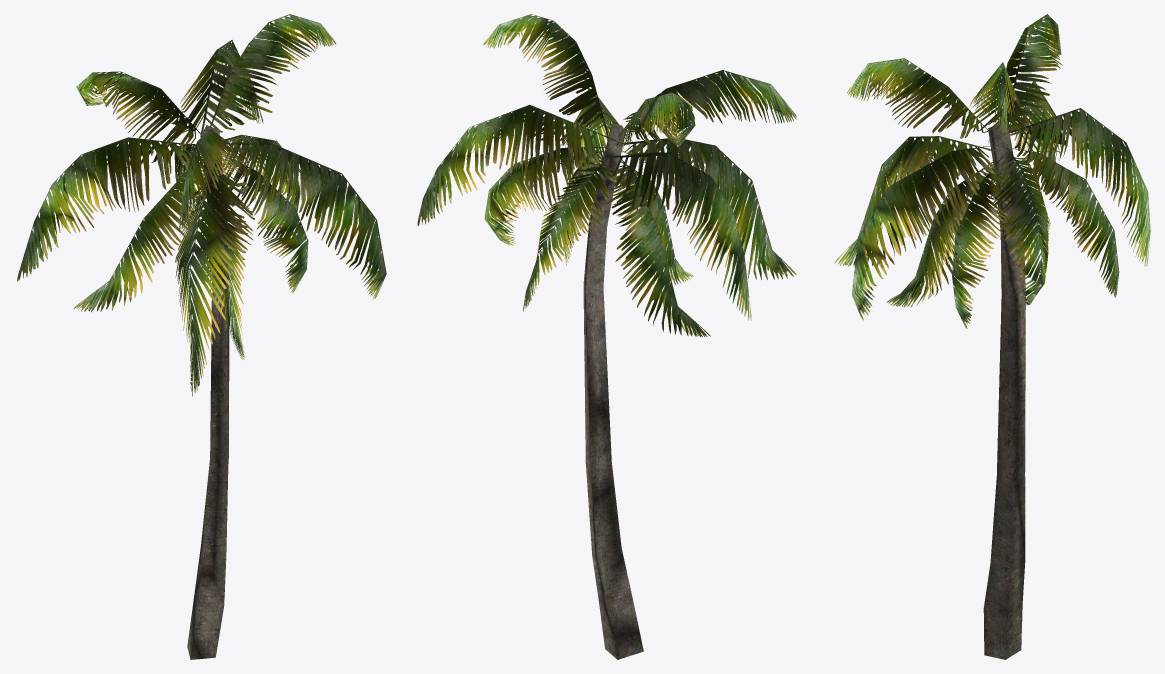
The model's file is Vegetation_Yztree02.glb.
3 renders of one model, left to right at view 1: azimuth 30°, elevation 25°; view 2: azimuth 150°, elevation 25°; view 3: azimuth 270°, elevation 25°, orthographic.
Parts seen in each view (by area): view 1: xiutz_yztree02; view 2: xiutz_yztree02; view 3: xiutz_yztree02.
Boxes of the visible parts, left/top/right/bottom form: xiutz_yztree02: left=17, top=14, right=386, bottom=659; xiutz_yztree02: left=417, top=14, right=796, bottom=659; xiutz_yztree02: left=834, top=14, right=1150, bottom=659.
Bounding box in the file's own units: 12.27 × 24.18 × 11.2.
Materials: 1 (1 with a texture image).
